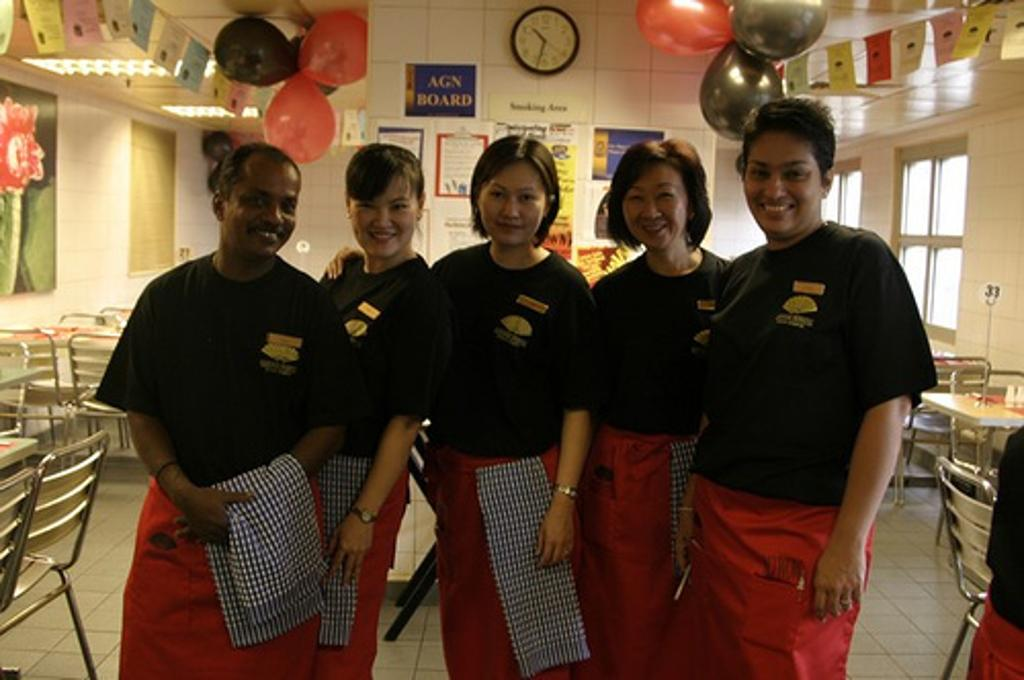face: (740, 130, 818, 234), (230, 158, 300, 260), (350, 168, 420, 258), (620, 164, 688, 252), (478, 166, 544, 244)
